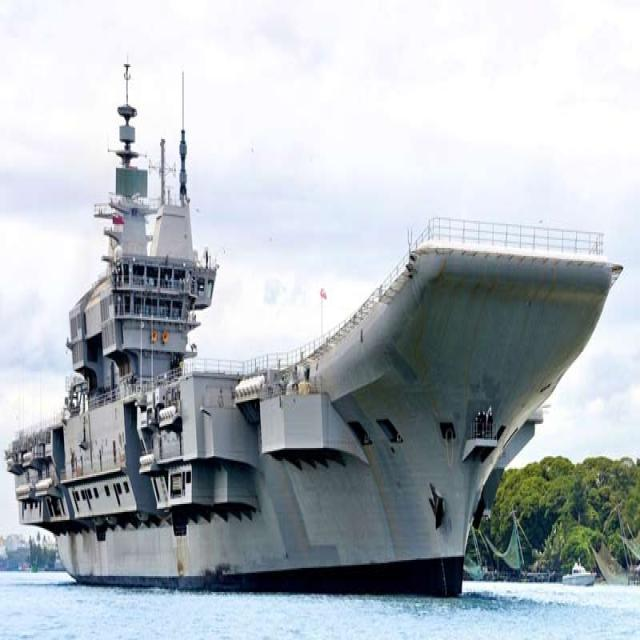Aircraft-Carrier-Vikrant-Class-IND: (7, 43, 624, 597)
